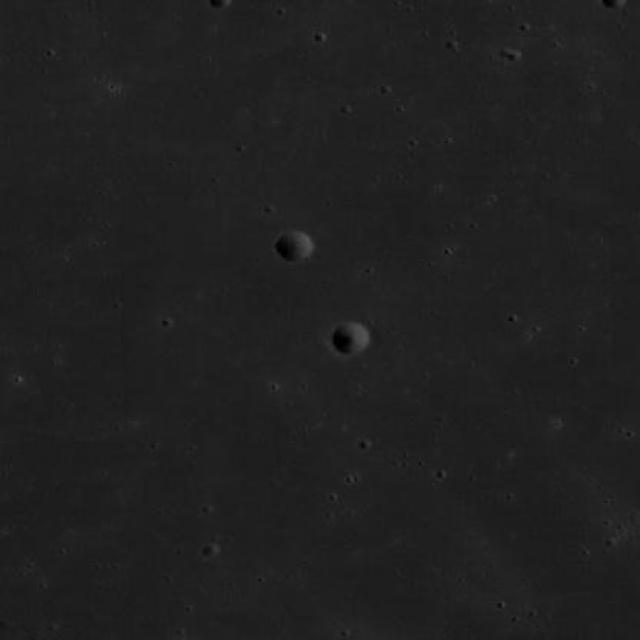crater: (275, 230, 314, 262), (332, 324, 370, 356), (208, 0, 230, 9)
